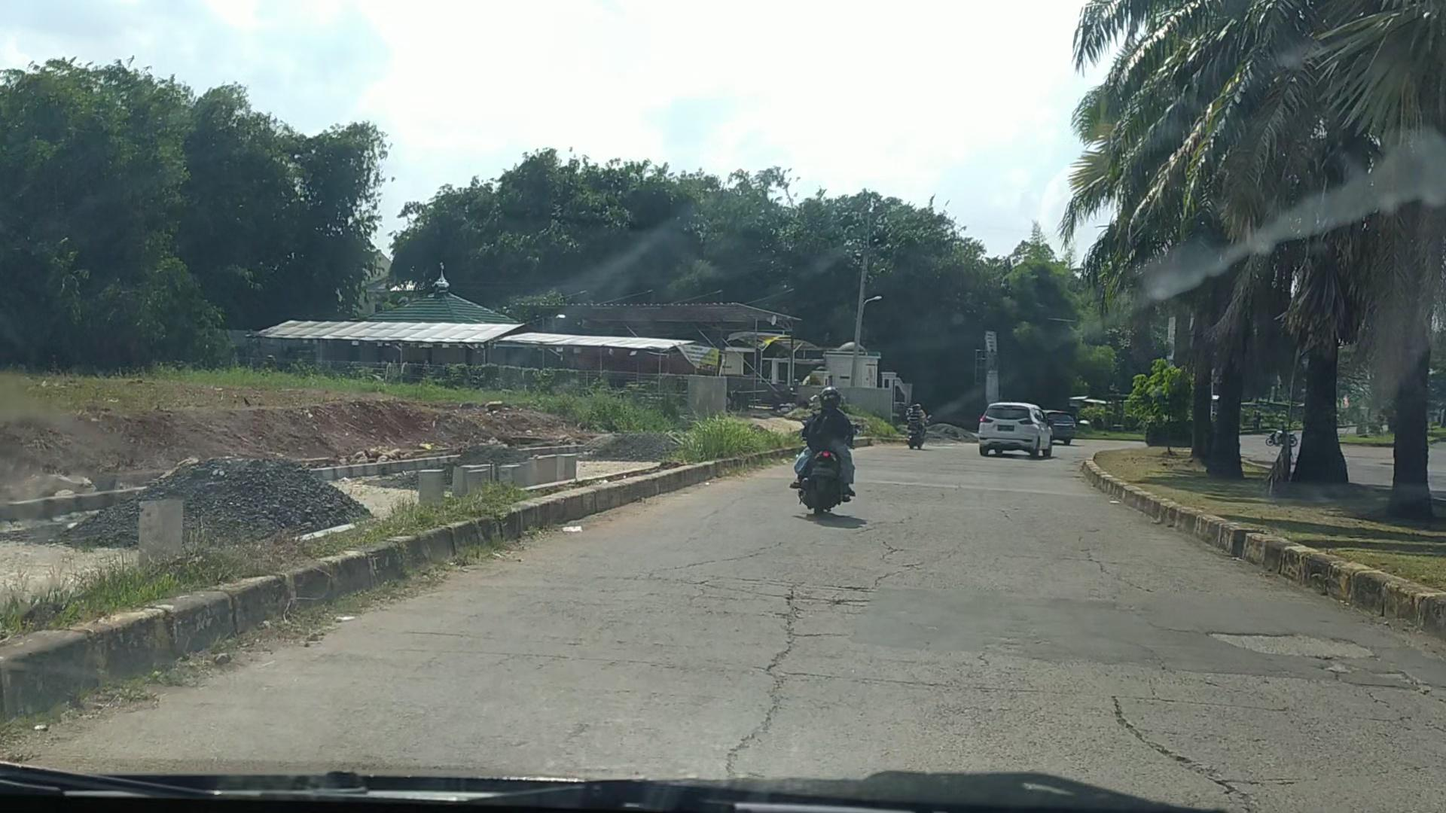pothole: (1203, 630, 1379, 659)
